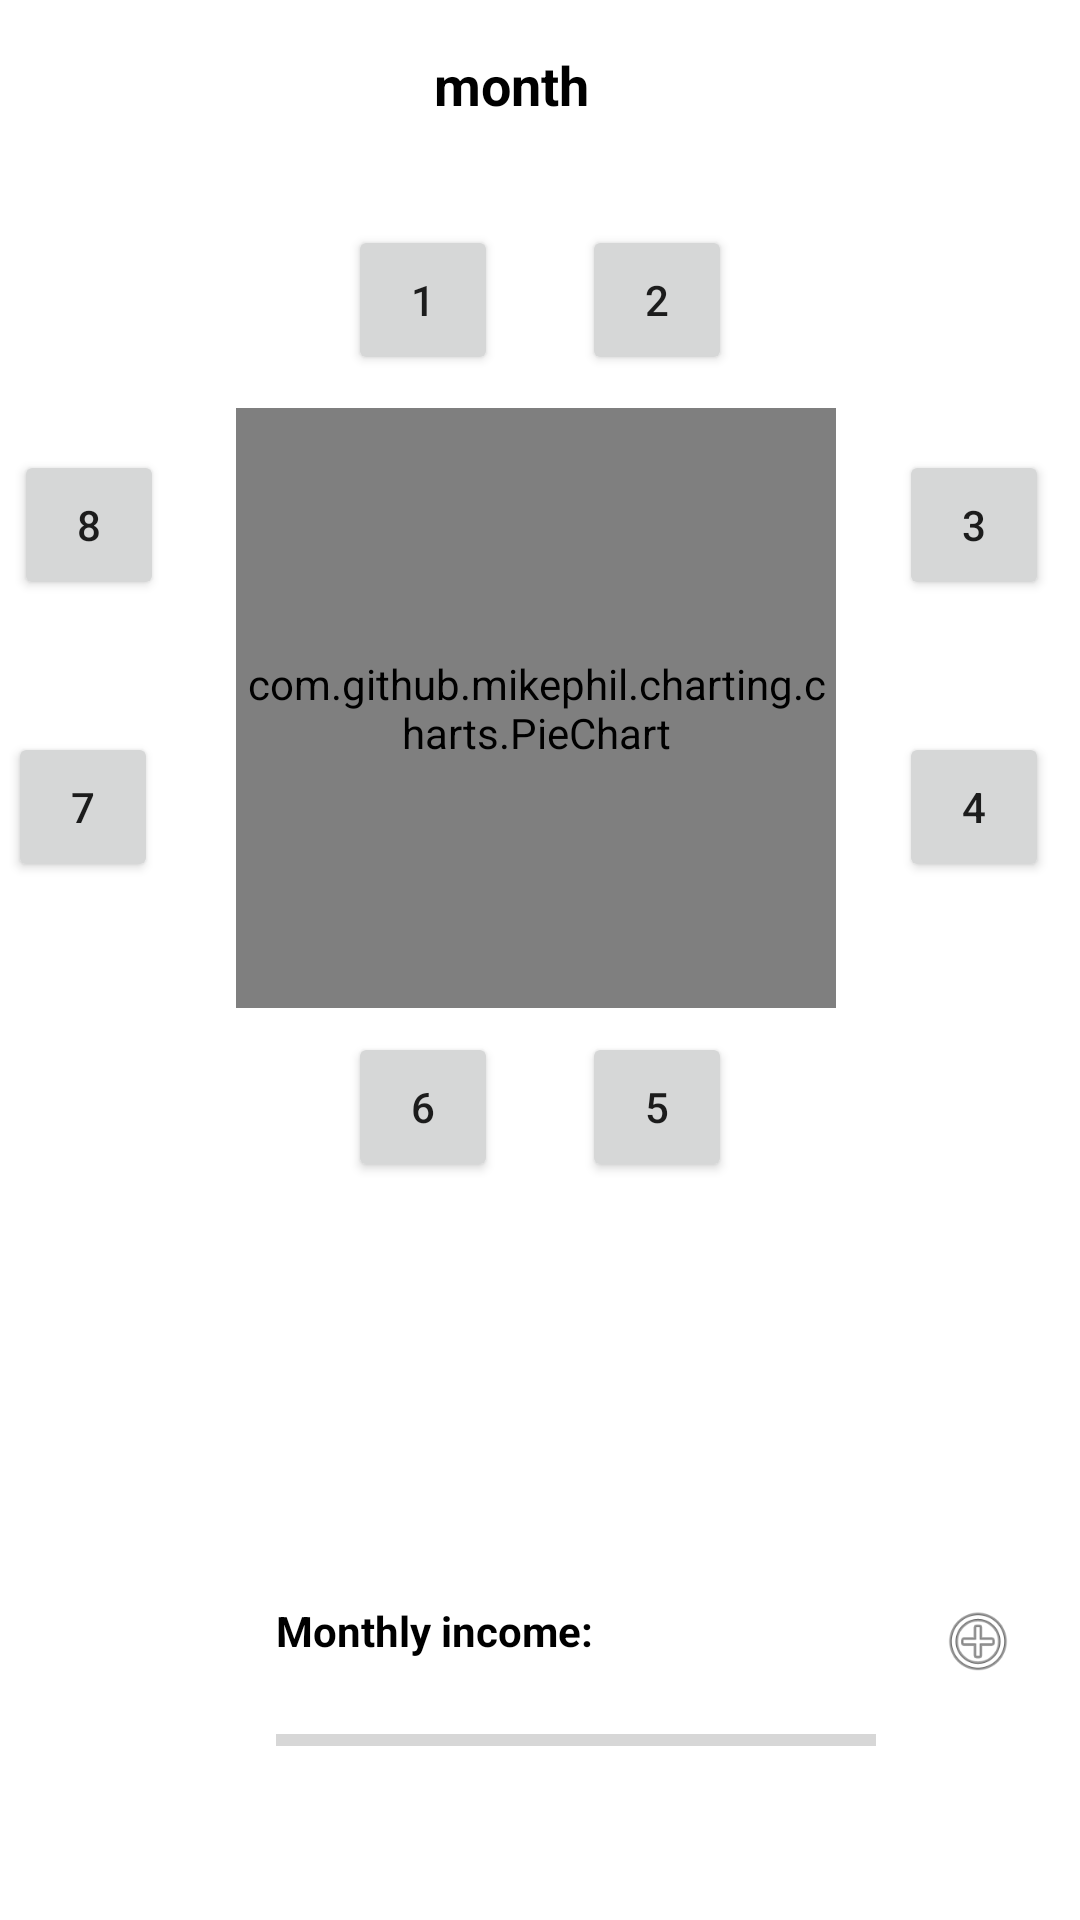

Where icons sit on this 1080x1920 app screen, as (x1, y1, x2, y2):
add: (949, 1612, 1007, 1670)
